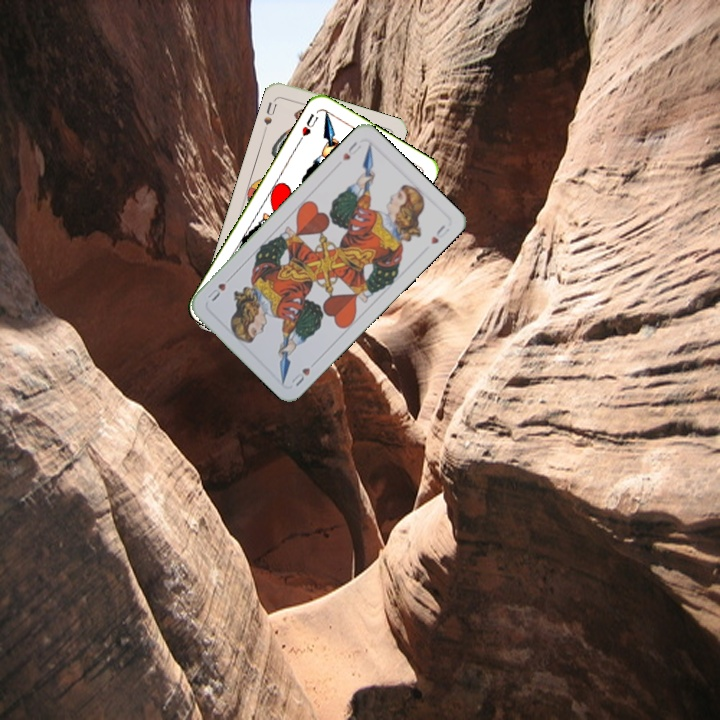HU: (298, 109, 321, 139), (338, 138, 364, 163), (287, 364, 313, 389)
SU: (259, 95, 280, 134)
